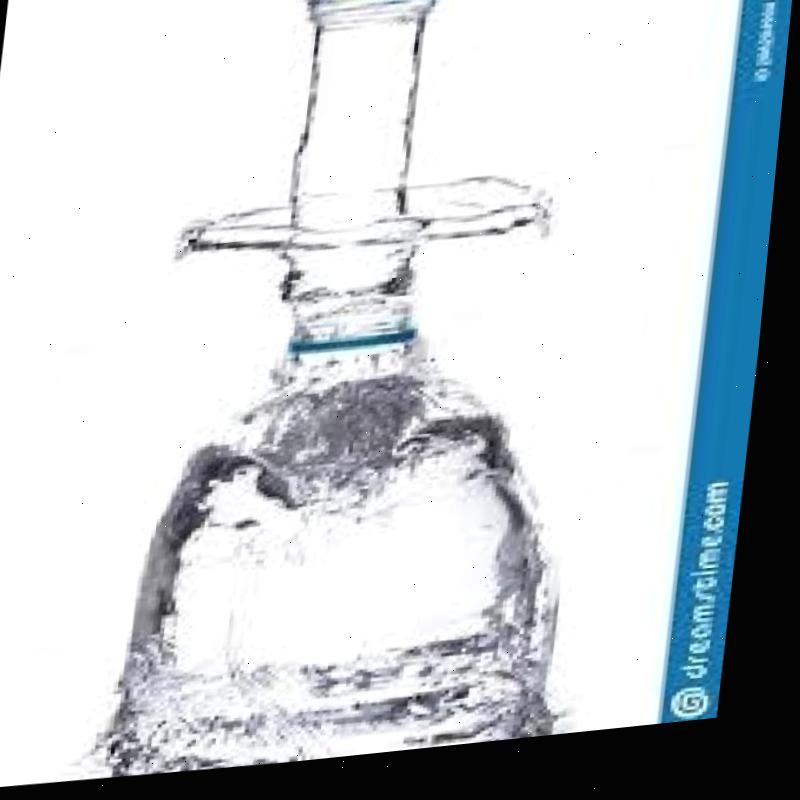botella: (113, 286, 600, 786)
